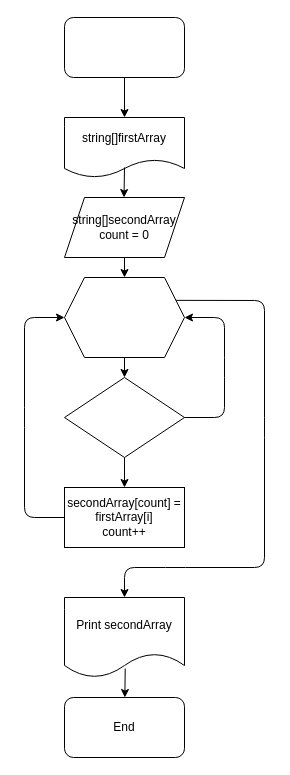
This 290x775 diagram has some shape labels left out. The shapes that lost their labels are listed below. From the top down, each one's box as (x1, y1, x2, y2) in pixels, then its label:
(64, 16, 184, 78): Start
(64, 276, 184, 358): for (inti=0; i<firstArray.Length; i++)
(64, 376, 184, 458): if(firstArray[i] <=3
